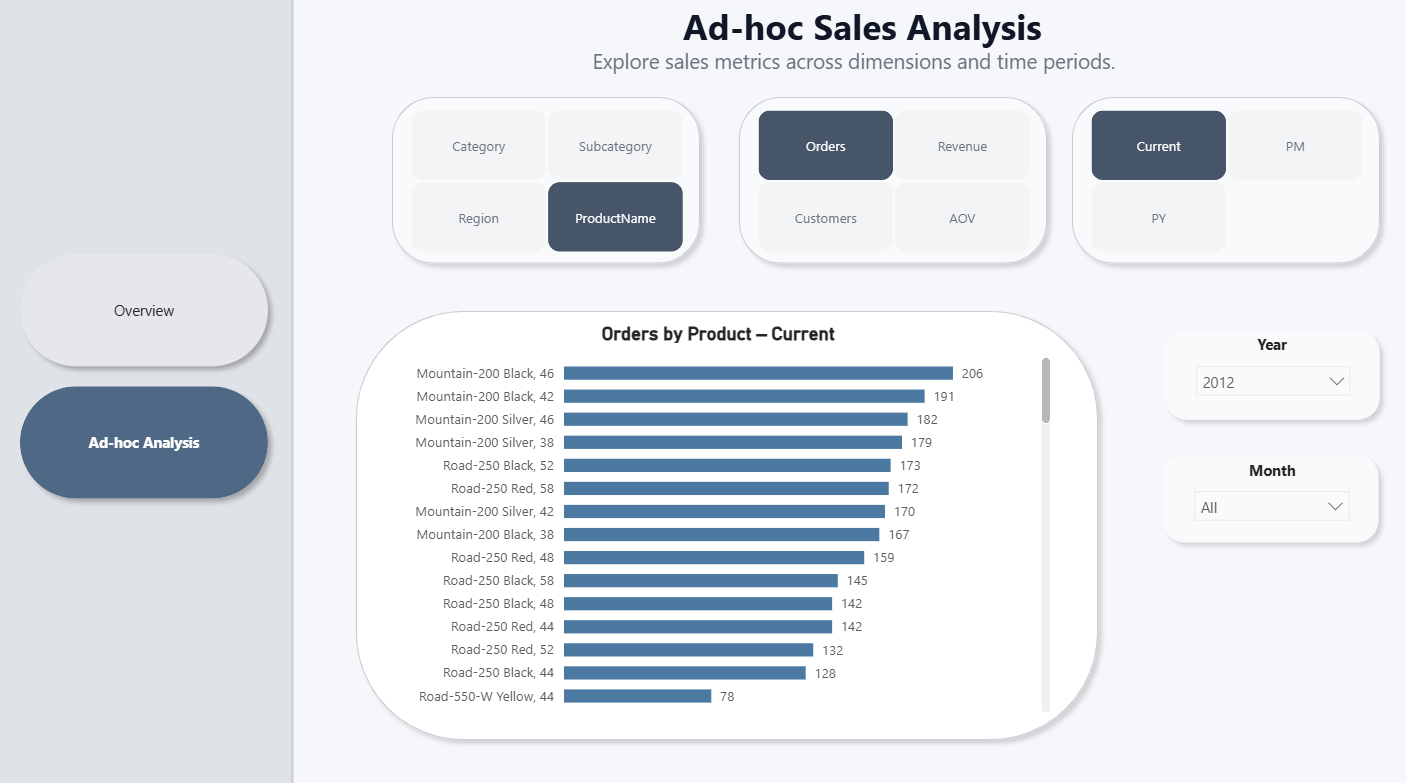

What the dashboard file says about the page in this screenshot:
{"tool":"powerbi","page":{"name":"Ad-hoc Analysis","canvas":[1280,720],"ordinal":1},"visuals":[{"type":"group","id":"g1","title":"Group 2","box":[0,0,275.7,720],"z":0},{"type":"shape","box":[0,0,267.2,720],"z":0,"group":"g1"},{"type":"pageNavigator","box":[11.1,224.6,243.2,240.7],"z":1000,"group":"g1"},{"type":"group","id":"g2","title":"Group 1","box":[316,276.5,691.2,407.3],"z":1000},{"type":"shape","box":[258.7,0,17,720],"z":1005,"group":"g1"},{"type":"shape","box":[316,276.5,691.2,407.3],"z":2000,"group":"g2"},{"type":"group","id":"g3","title":"Group 1","box":[1049.2,295,212.9,98.5],"z":2000,"group":"g5"},{"type":"group","id":"g4","title":"Group 11","box":[1047.9,407.3,213.5,97.5],"z":2000},{"type":"shape","box":[348.1,82.7,297.5,169.1],"z":3000,"group":"g6"},{"type":"shape","box":[662.8,82.7,297.5,169.1],"z":3000,"group":"g7"},{"type":"shape","box":[965.2,82.7,297.5,169.1],"z":3000,"group":"g8"},{"type":"group","id":"g5","title":"Group 12","box":[1049.2,295,213.5,98.7],"z":3000},{"type":"shape","box":[1049.2,295,212.9,98.5],"z":3000,"group":"g3"},{"type":"shape","box":[1047.9,407.3,213.5,97.5],"z":3000,"group":"g9"},{"type":"group","id":"g6","title":"Group 4","box":[348.1,82.7,297.5,169.1],"z":4000},{"type":"advancedSlicerVisual","fields":{"Values":["Dimension Parameter.Dimension Parameter"]},"box":[370.3,98.7,256.7,138.2],"z":4000,"group":"g6"},{"type":"advancedSlicerVisual","fields":{"Values":["Metric Parameter.Metric Parameter"]},"box":[685,98.7,256.7,138.2],"z":4000,"group":"g7"},{"type":"advancedSlicerVisual","fields":{"Values":["Time Intelligence.Calculation group column"]},"box":[987.4,98.7,256.7,138.2],"z":4000,"group":"g8"},{"type":"slicer","title":"Y","fields":{"Values":["DimDate.Year"]},"box":[1076.4,325.6,160.4,52.8],"z":4000,"group":"g3"},{"type":"slicer","fields":{"Values":["DimDate.MonthName"]},"box":[1075.1,439.2,160.9,52.2],"z":4000,"group":"g9"},{"type":"group","id":"g7","title":"Group 4","box":[662.8,82.7,297.5,169.1],"z":5000},{"type":"clusteredBarChart","fields":{"Y":["_Measures.Customers"],"Category":["DimProduct.Subcategory"]},"box":[348.1,295.6,612.2,359.2],"z":5000,"group":"g2"},{"type":"group","id":"g8","title":"Group 4","box":[965.2,82.7,297.5,169.1],"z":6000},{"type":"textbox","box":[449.3,0,670.2,82.7],"z":7000},{"type":"textbox","box":[534,40.7,582.6,42],"z":8000},{"type":"textbox","box":[1118.9,302.6,73,34.7],"z":13000,"group":"g5"},{"type":"group","id":"g9","title":"Group 8","box":[1047.9,407.3,213.5,97.5],"z":14000,"group":"g4"},{"type":"textbox","box":[1093.3,416.6,111.1,29.6],"z":15000,"group":"g4"}]}

Visuals, with their boxes in screenshot pixels (x1, y1, x2, y2), scaled from the page's 1280x720 canvas onto the 1406x783 screenshot:
"Group 2" group: box=[0, 0, 303, 782]
shape: box=[0, 0, 294, 782]
pageNavigator: box=[12, 244, 279, 506]
"Group 1" group: box=[347, 301, 1106, 744]
shape: box=[284, 0, 303, 782]
shape: box=[347, 301, 1106, 744]
"Group 1" group: box=[1152, 321, 1386, 428]
"Group 11" group: box=[1151, 443, 1386, 549]
shape: box=[382, 90, 709, 274]
shape: box=[728, 90, 1055, 274]
shape: box=[1060, 90, 1387, 274]
"Group 12" group: box=[1152, 321, 1387, 428]
shape: box=[1152, 321, 1386, 428]
shape: box=[1151, 443, 1386, 549]
"Group 4" group: box=[382, 90, 709, 274]
advancedSlicerVisual - Dimension Parameter.Dimension Parameter: box=[407, 107, 689, 258]
advancedSlicerVisual - Metric Parameter.Metric Parameter: box=[752, 107, 1034, 258]
advancedSlicerVisual - Time Intelligence.Calculation group column: box=[1085, 107, 1367, 258]
"Y" slicer: box=[1182, 354, 1359, 412]
slicer - DimDate.MonthName: box=[1181, 478, 1358, 534]
"Group 4" group: box=[728, 90, 1055, 274]
clusteredBarChart - _Measures.Customers x DimProduct.Subcategory: box=[382, 321, 1055, 712]
"Group 4" group: box=[1060, 90, 1387, 274]
textbox: box=[494, 0, 1230, 90]
textbox: box=[587, 44, 1227, 90]
textbox: box=[1229, 329, 1309, 367]
"Group 8" group: box=[1151, 443, 1386, 549]
textbox: box=[1201, 453, 1323, 485]
